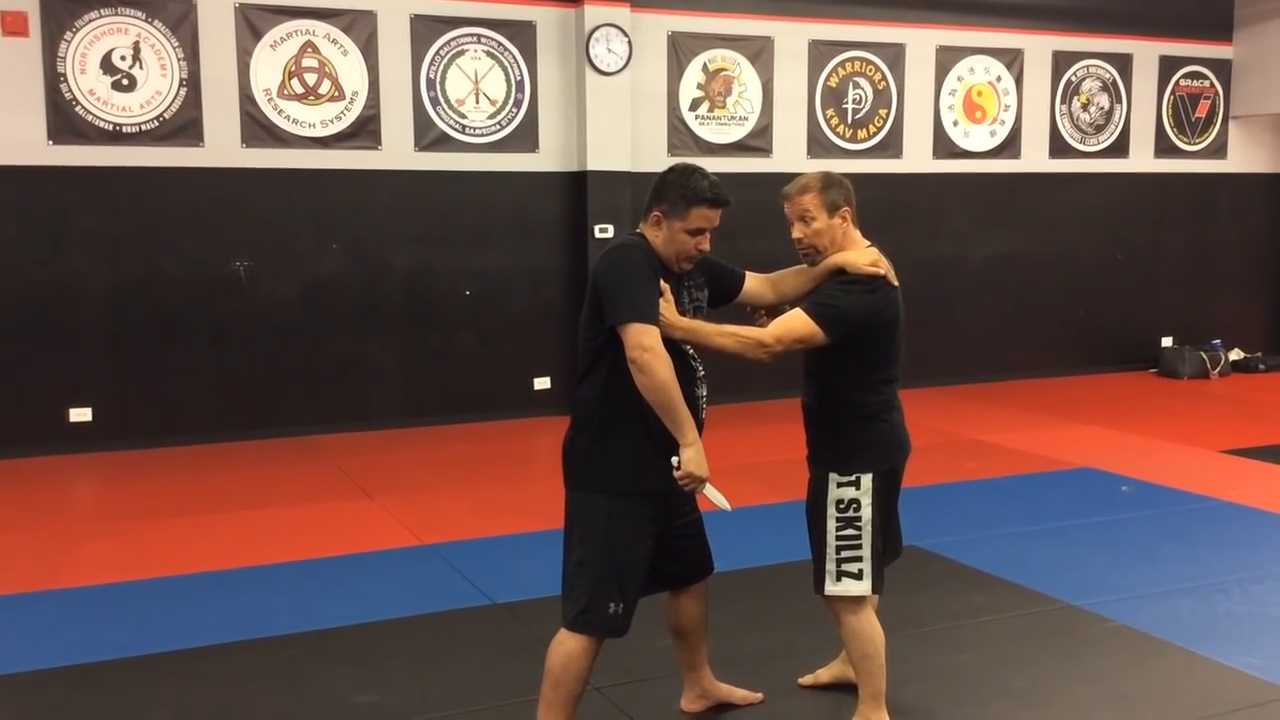knife: (667, 452, 736, 516)
